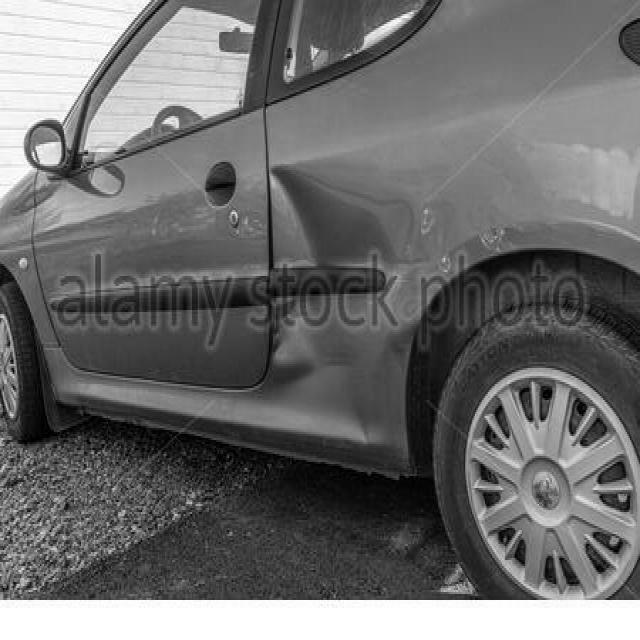doorouter-dent: (245, 144, 415, 464)
